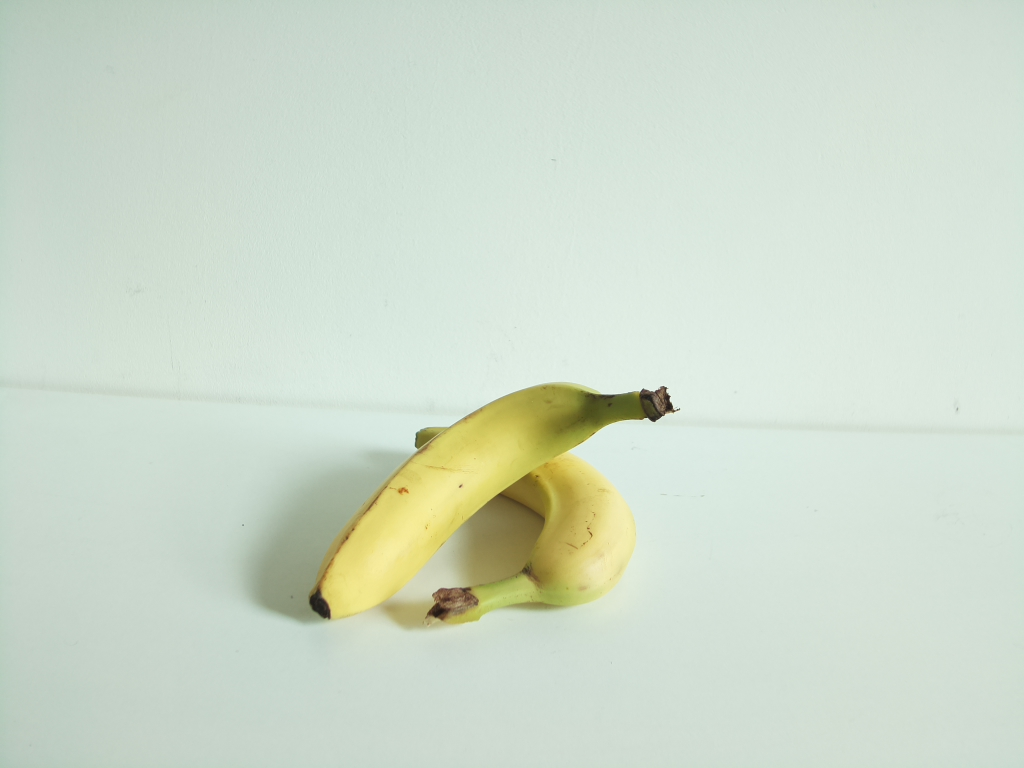banana: (305, 384, 677, 619), (415, 428, 638, 626)
